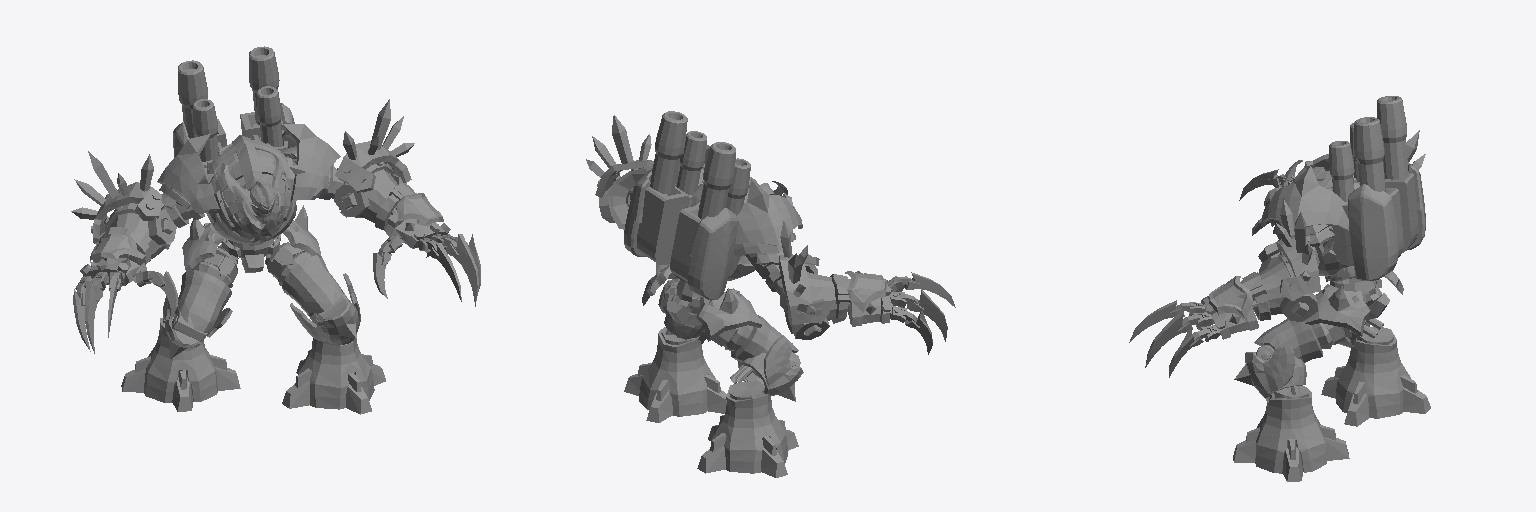
3 renders of one model, left to right at view 1: azimuth 30°, elevation 25°; view 2: azimuth 150°, elevation 25°; view 3: azimuth 270°, elevation 25°, orthographic.
Parts seen in each view (by area): view 1: ironreaver03, Object003, ironreaver03_canon, Object002, Object001, Object004, ironreaver02; view 2: ironreaver03, ironreaver03_canon, Object003, Object001, Object002; view 3: ironreaver03, ironreaver03_canon, Object003, Object002, ironreaver02.
Part boxes in pixels (x1,y1,x2,y2): ironreaver03: (90, 124, 443, 414); Object003: (73, 206, 480, 353); ironreaver03_canon: (173, 46, 294, 164); Object002: (334, 99, 414, 216); Object001: (71, 151, 176, 244); Object004: (224, 152, 286, 224); ironreaver02: (221, 234, 280, 259); ironreaver03: (607, 145, 886, 477); ironreaver03_canon: (624, 111, 750, 299); Object003: (848, 271, 955, 354); Object001: (779, 221, 829, 339); Object002: (586, 115, 653, 222); ironreaver03: (1208, 154, 1430, 481); ironreaver03_canon: (1329, 96, 1425, 280); Object003: (1129, 168, 1295, 377); Object002: (1258, 198, 1320, 321); ironreaver02: (1325, 267, 1381, 303).
Bounding box in the file's own units: 289 × 256 × 218.